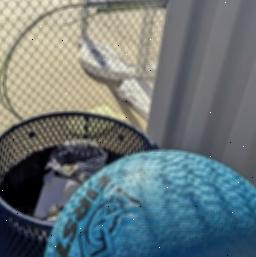algae: (35, 141, 256, 257)
